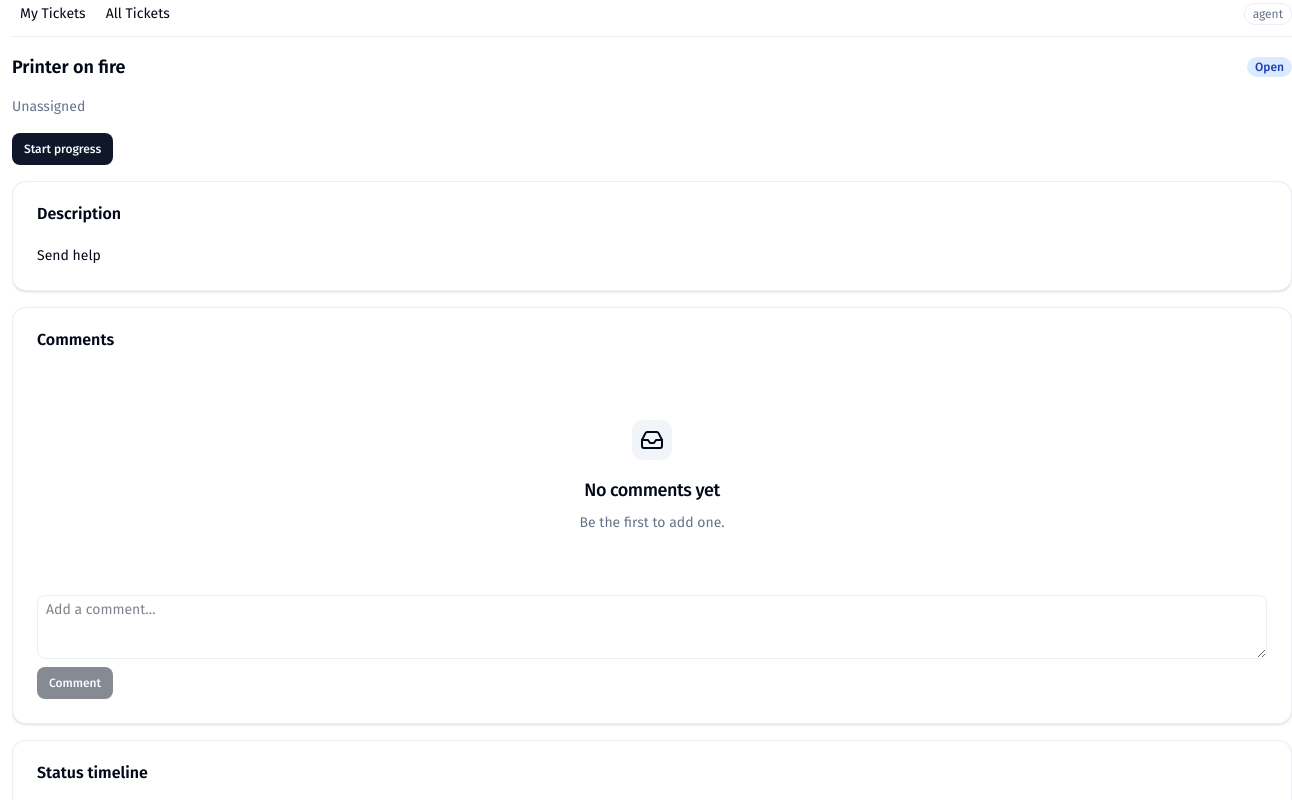
Test: TicketDetailPage › posts a comment and reloads the thread
The width and height of the screenshot is (1292, 800).
In the text box with test id "helpdesk-comment-input": (652, 627) [37,595,1267,659], type "on it"
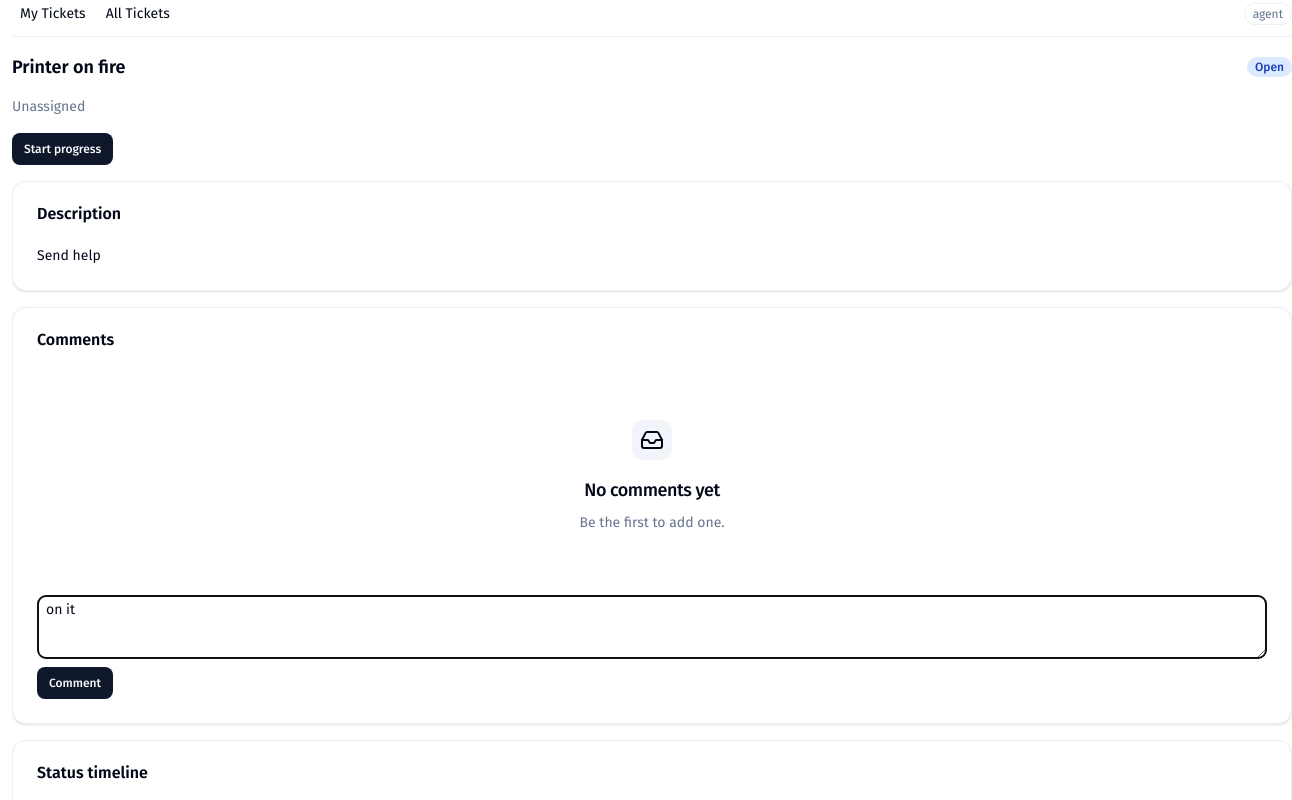
Click the button with test id "helpdesk-comment-submit": (75, 683) [37,667,113,699]
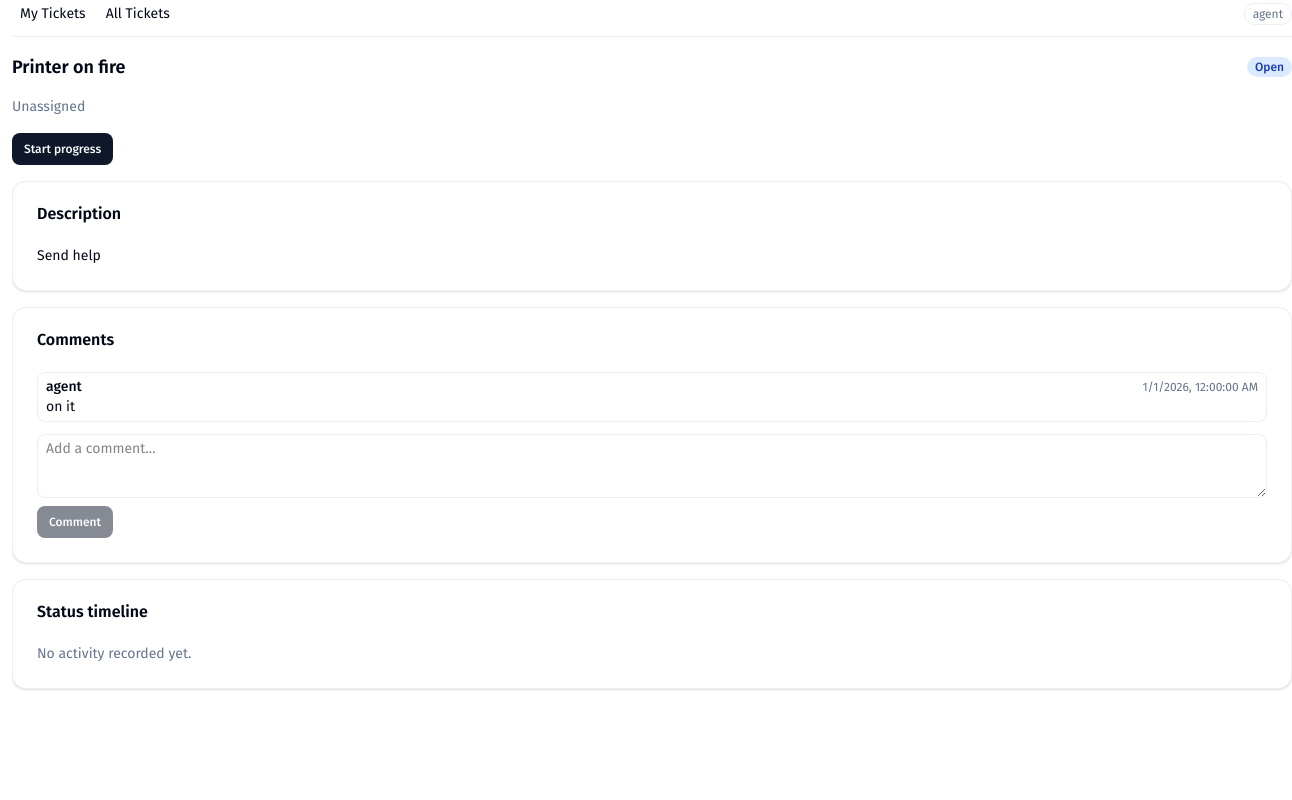
Expected: the text "on it" is shown, [46,398,75,415]
